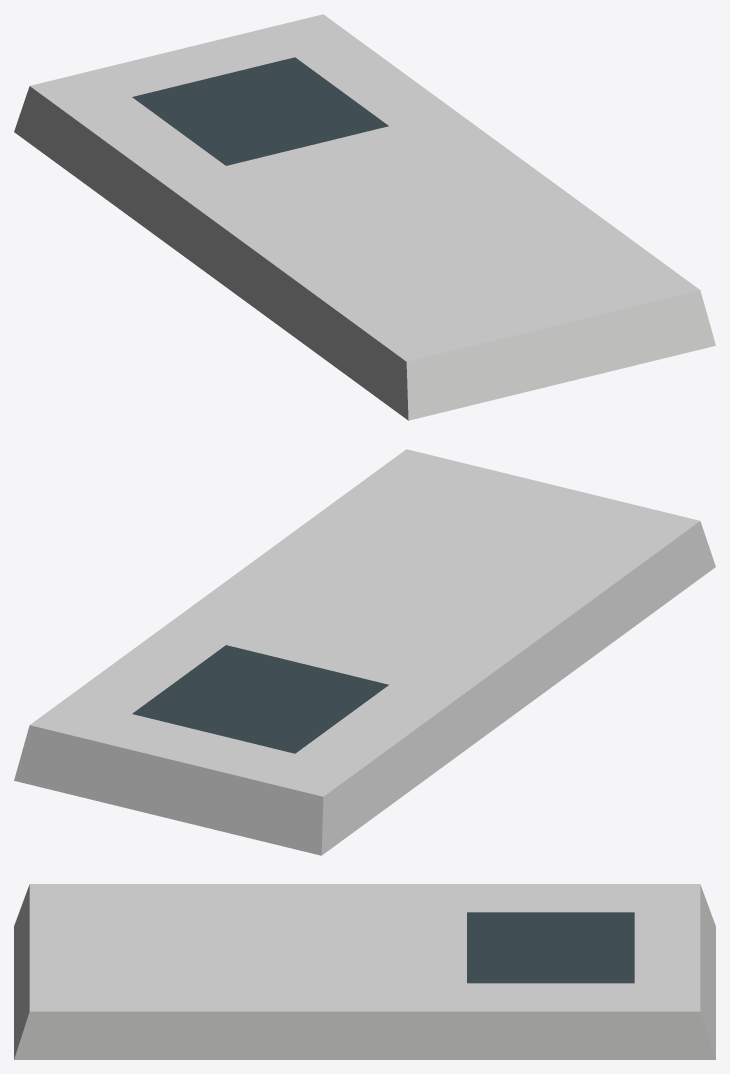
The model's file is apocalypse_train-door-apocalypse.fbx.
The picture shows the model from 3 angles, top to bottom: view 1: azimuth 30°, elevation 25°; view 2: azimuth 150°, elevation 25°; view 3: azimuth 270°, elevation 25°; orthographic projection. The views are drawn at different scales.
Parts seen in each view (by area): view 1: apocalypse_train_door_apocalypse; view 2: apocalypse_train_door_apocalypse; view 3: apocalypse_train_door_apocalypse.
Part boxes in pixels (box(x1,y1,x2,y2)): apocalypse_train_door_apocalypse: box(14, 14, 715, 420); apocalypse_train_door_apocalypse: box(14, 449, 715, 855); apocalypse_train_door_apocalypse: box(14, 884, 715, 1059).
Bounding box in the file's own units: 90.04 × 14.23 × 200.
